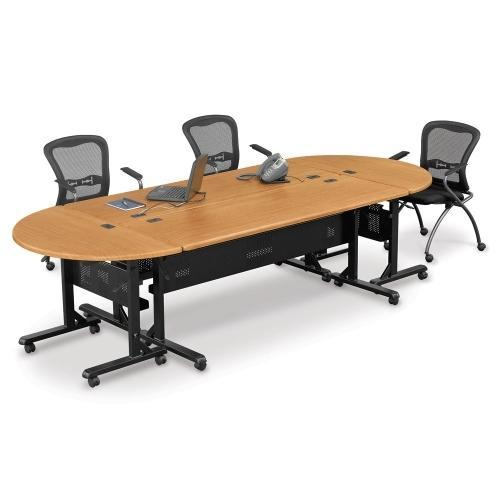conference_table: (11, 153, 433, 389)
